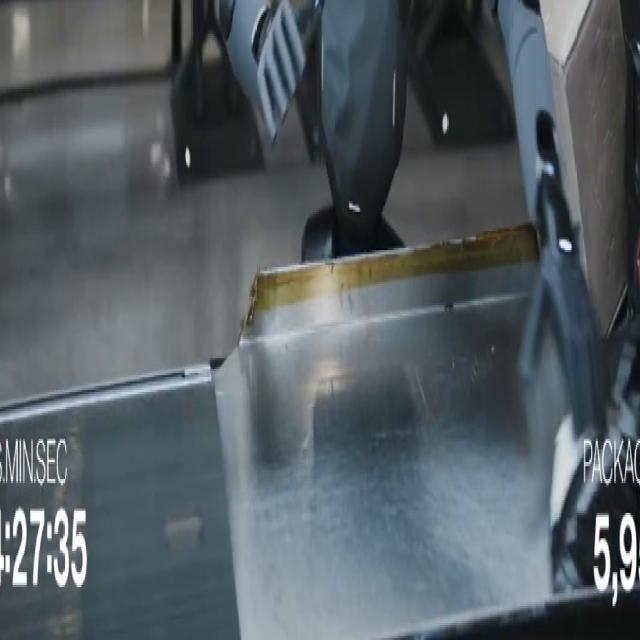package: (541, 0, 627, 330)
